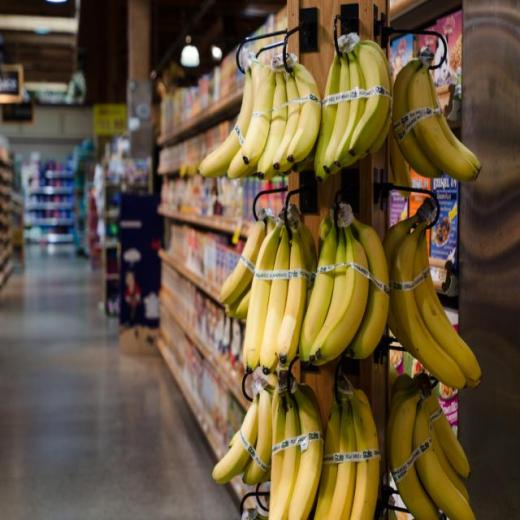Banana: (219, 204, 481, 395), (197, 29, 480, 180), (213, 366, 474, 520), (386, 390, 438, 520)
